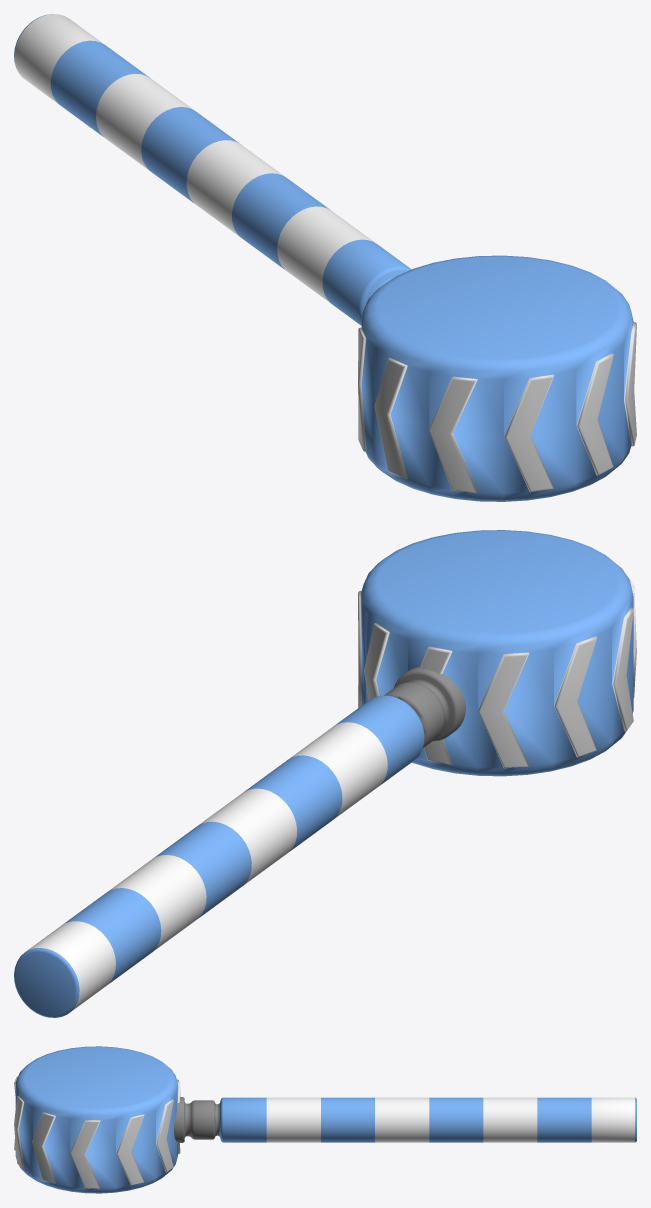
Rendered from trap_arrowtrap_2.glb.
The picture shows the model from 3 angles, top to bottom: view 1: azimuth 30°, elevation 25°; view 2: azimuth 150°, elevation 25°; view 3: azimuth 270°, elevation 25°; orthographic projection. The views are drawn at different scales.
Parts seen in each view (by area): view 1: Cylinder.016_visual; view 2: Cylinder.016_visual; view 3: Cylinder.016_visual.
Boxes of the visible parts, x1,y1,x2,y2 form: Cylinder.016_visual: (14, 14, 636, 501); Cylinder.016_visual: (14, 530, 636, 1017); Cylinder.016_visual: (14, 1046, 636, 1193).
Size of what is drawn, in the model's own units: 2.79 by 1.56 by 10.42.
Materials: 2 (1 with a texture image).
